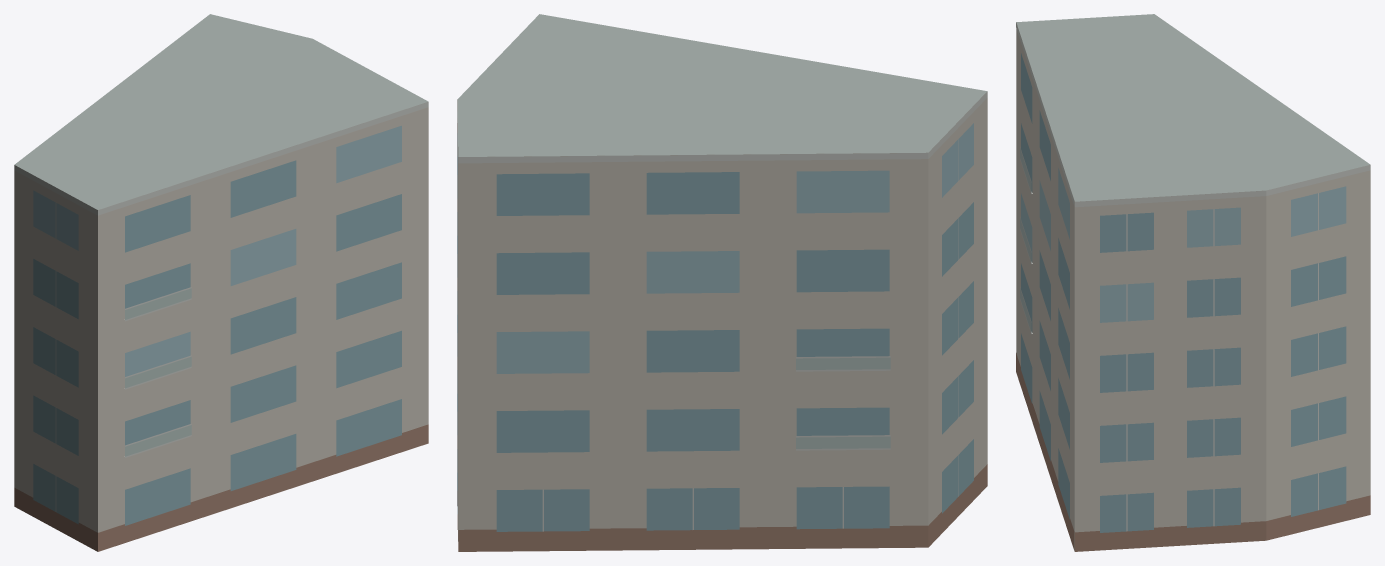
File: survey-upis-32644847.glb
3 views of the same model, side by side, from view 1: azimuth 30°, elevation 25°; view 2: azimuth 150°, elevation 25°; view 3: azimuth 270°, elevation 25° (orthographic). The views are drawn at different scales.
Parts seen in each view (by area): view 1: survey-upis-32644847.tmp; view 2: survey-upis-32644847.tmp; view 3: survey-upis-32644847.tmp.
Part boxes in pixels (bbox=[...]): survey-upis-32644847.tmp: bbox=[14, 14, 428, 551]; survey-upis-32644847.tmp: bbox=[457, 14, 987, 551]; survey-upis-32644847.tmp: bbox=[1016, 14, 1370, 551].
Size of the model in its own units: 17.55 by 15.25 by 14.
